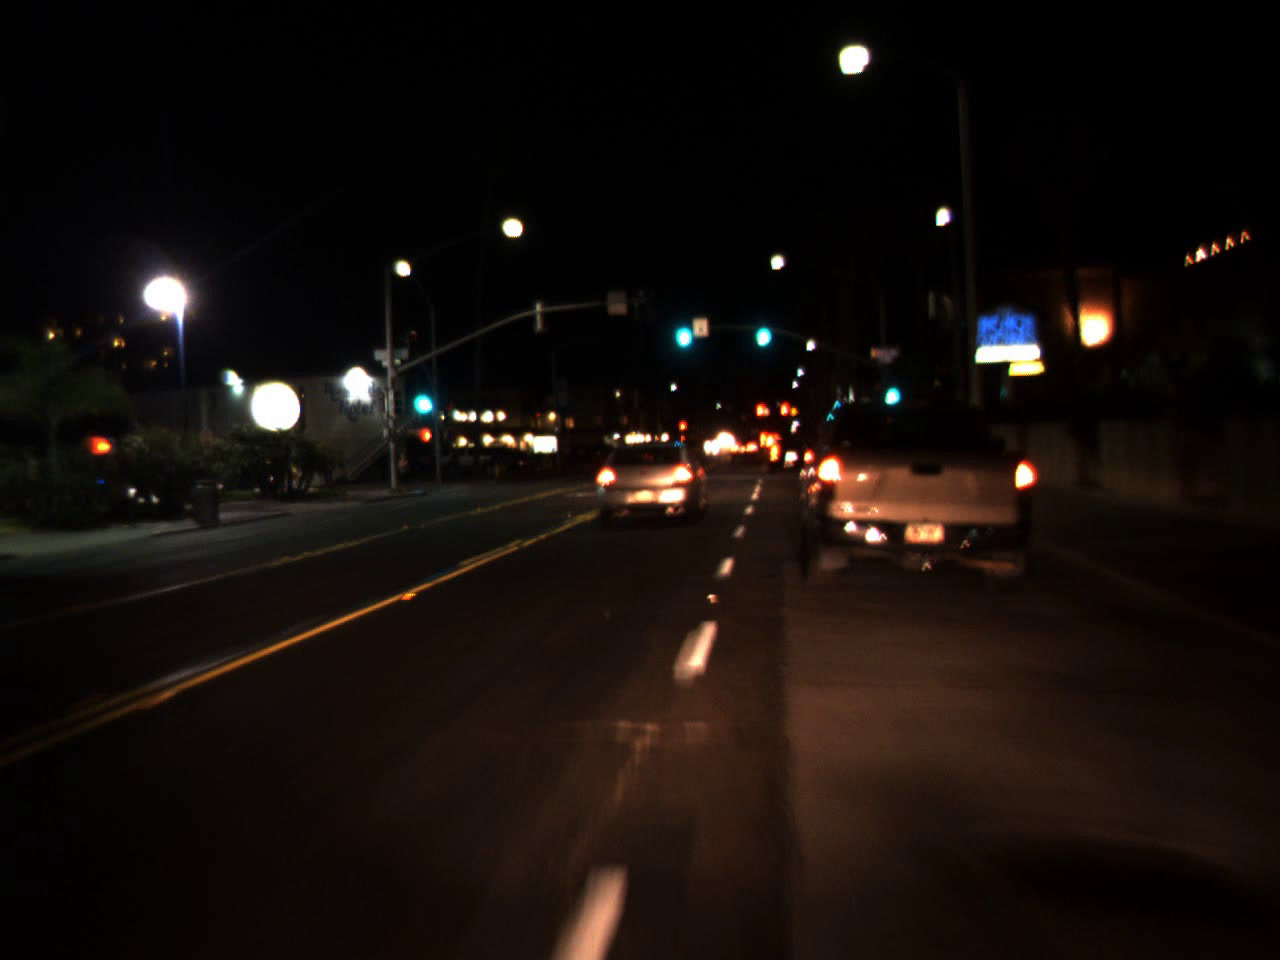go: (406, 370, 436, 421), (668, 301, 696, 355), (748, 307, 775, 349), (881, 369, 902, 408)
